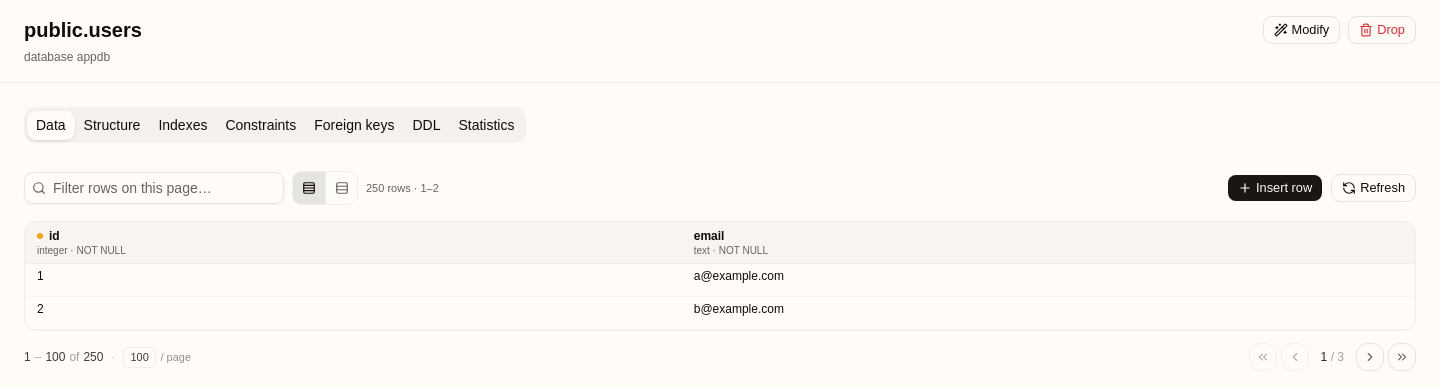
it: postgres TableDetailClient (characterization) › retries at the page offset the user was on, not offset 0
Expected: the text "a@example.com" is shown, [682, 264, 1347, 297]
Step 1. Click the button named "next page" → (1370,357), box [1356, 343, 1384, 371]
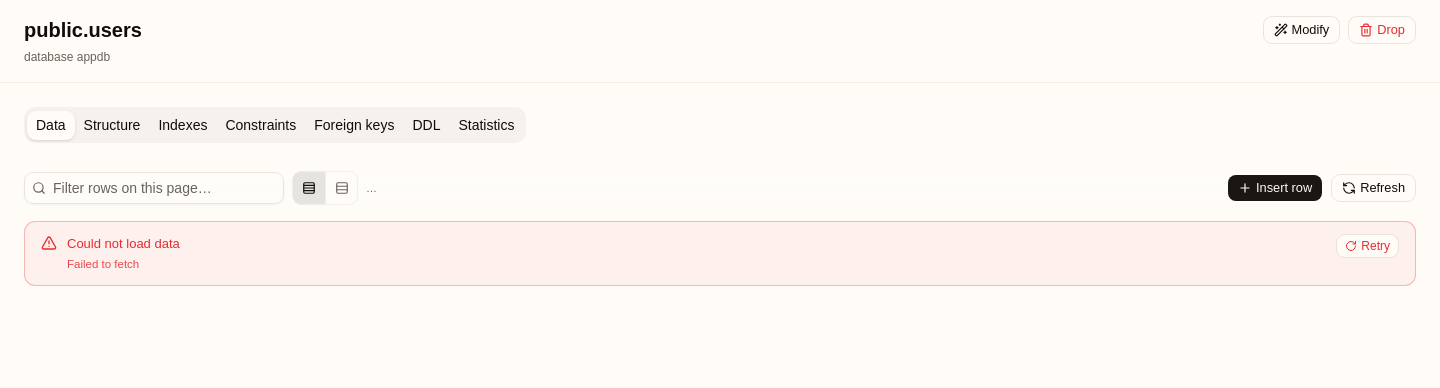
Result: the message shows "Could not load data" at [67, 236, 180, 251]
Step 2. Click the button "Retry" → (1368,246), box [1336, 234, 1399, 258]
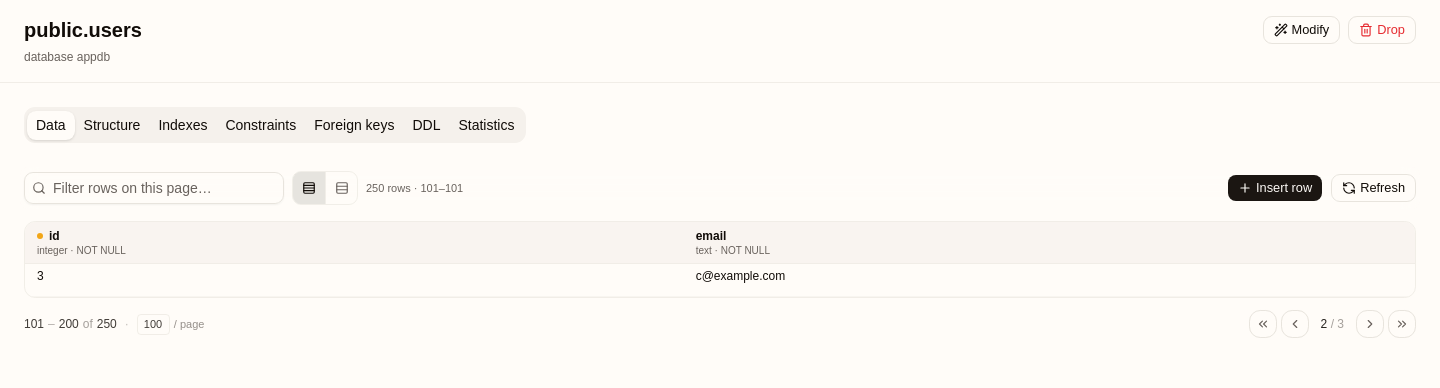
Result: the text "c@example.com" is shown at [684, 264, 1347, 297]
